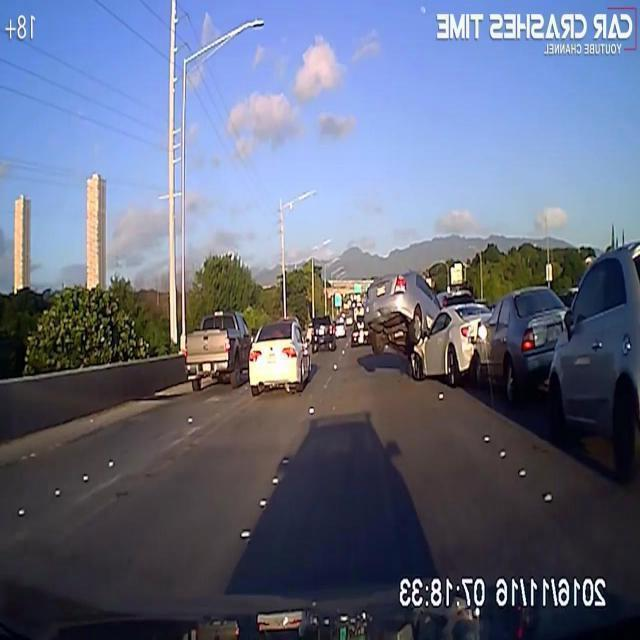accident: (362, 267, 477, 385)
